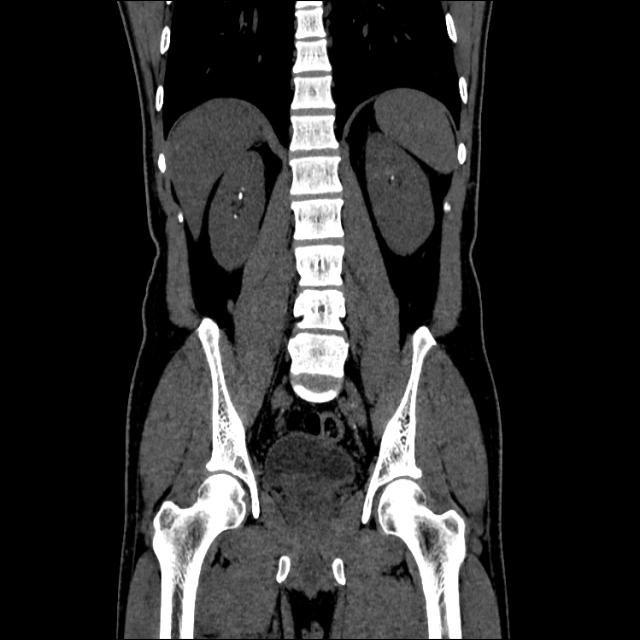kidneystone: (238, 187, 245, 199), (232, 212, 236, 217)
